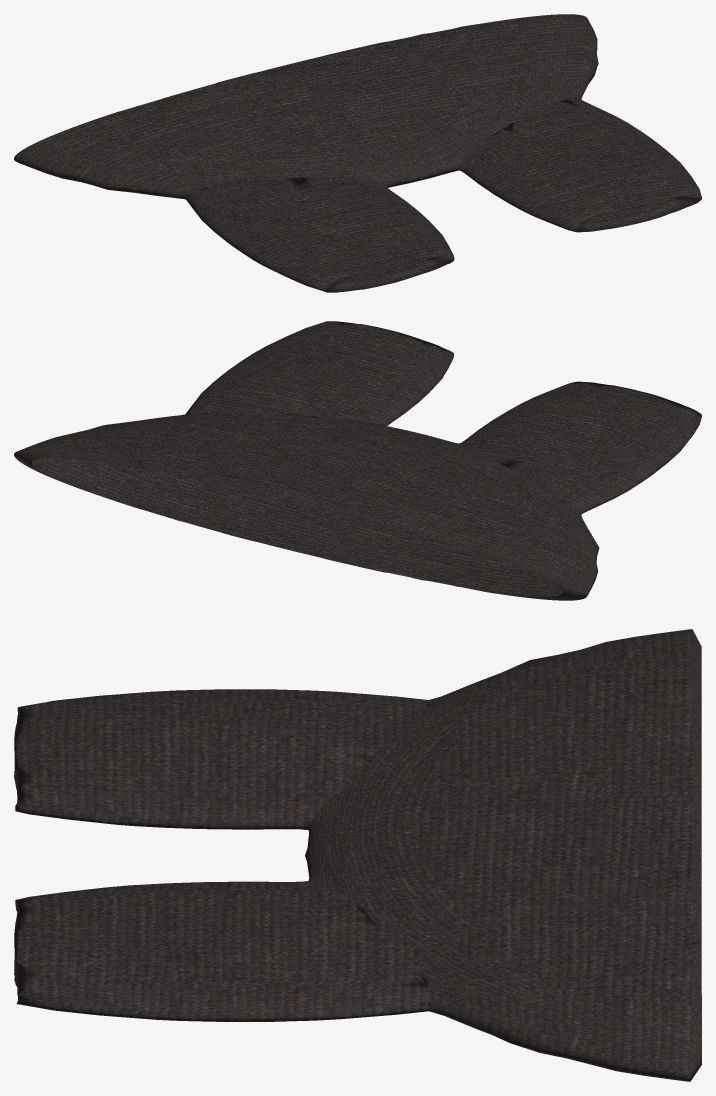
The model's file is trousers2.fbx.
3 renders of one model, top to bottom at view 1: azimuth 30°, elevation 25°; view 2: azimuth 150°, elevation 25°; view 3: azimuth 270°, elevation 25°, orthographic. The views are drawn at different scales.
Visible parts, largest first — view 1: trousers2; view 2: trousers2; view 3: trousers2.
Part boxes in pixels (x1,y1,x2,y2): trousers2: (14, 14, 701, 292); trousers2: (14, 321, 701, 600); trousers2: (14, 629, 701, 1081).
Size of the model in its own units: 0.8174 by 0.0747 by 0.535.
1 material, 1 textured.
